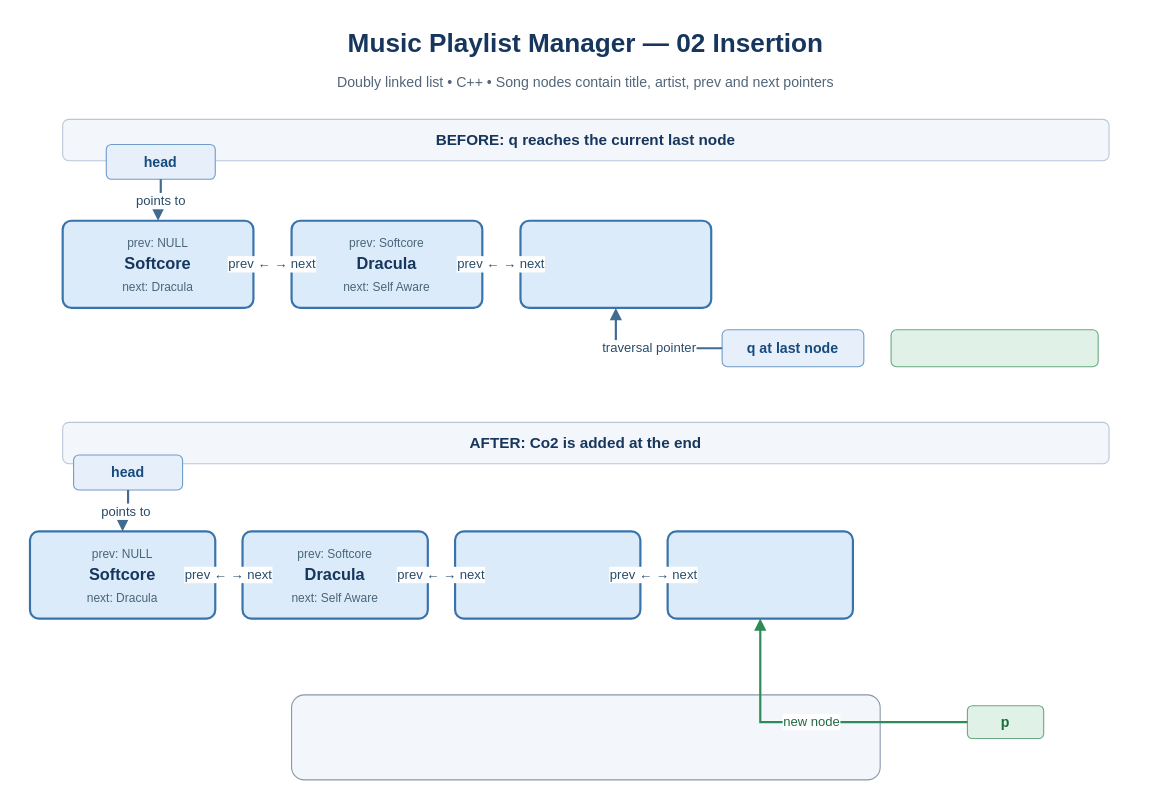
Image size: 1171x799. Some labels were removed from this diagram. The shapes that lost their labels are listed below. From the top down, each one's centre as x and y in pixels, then its label:
(615,263): prev: Dracula Self Aware next: NULL
(994,348): p newly allocated node
(547,574): prev: Dracula Self Aware next: Co2
(759,574): prev: Self Aware Co2 next: NULL
(585,737): Pointer updates q->next = p; p->prev = q; p->next = nullptr;
